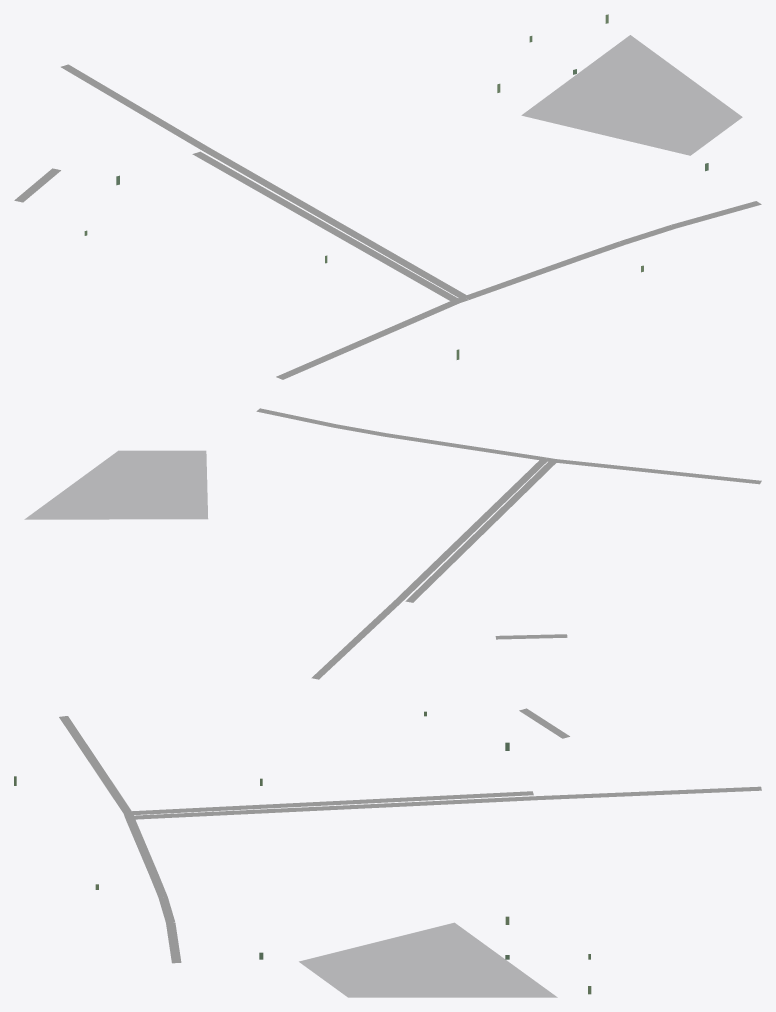
3 views of the same model, one above another, from view 1: azimuth 30°, elevation 25°; view 2: azimuth 150°, elevation 25°; view 3: azimuth 270°, elevation 25° (orthographic). The views are drawn at different scales.
Bounding box in the file's own units: 499 × 8.28 × 547.
